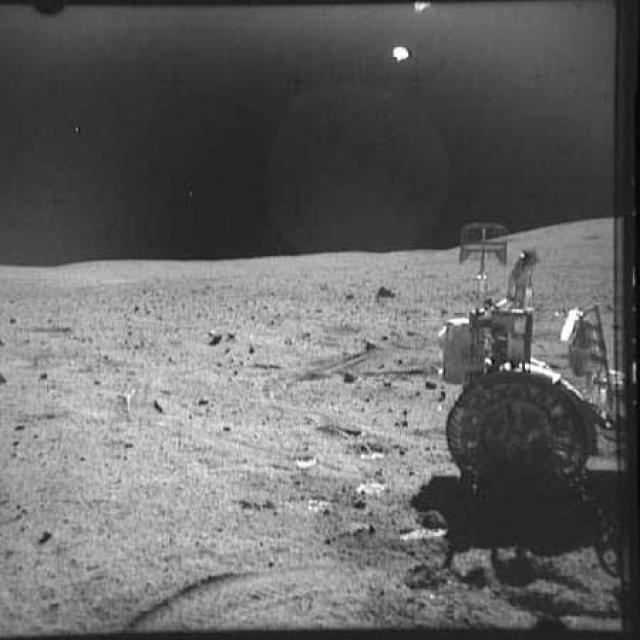rock: (38, 526, 66, 548), (365, 282, 403, 298), (333, 366, 365, 384), (419, 377, 436, 398), (360, 335, 380, 351), (242, 340, 262, 356), (206, 327, 230, 340), (190, 397, 214, 410)
